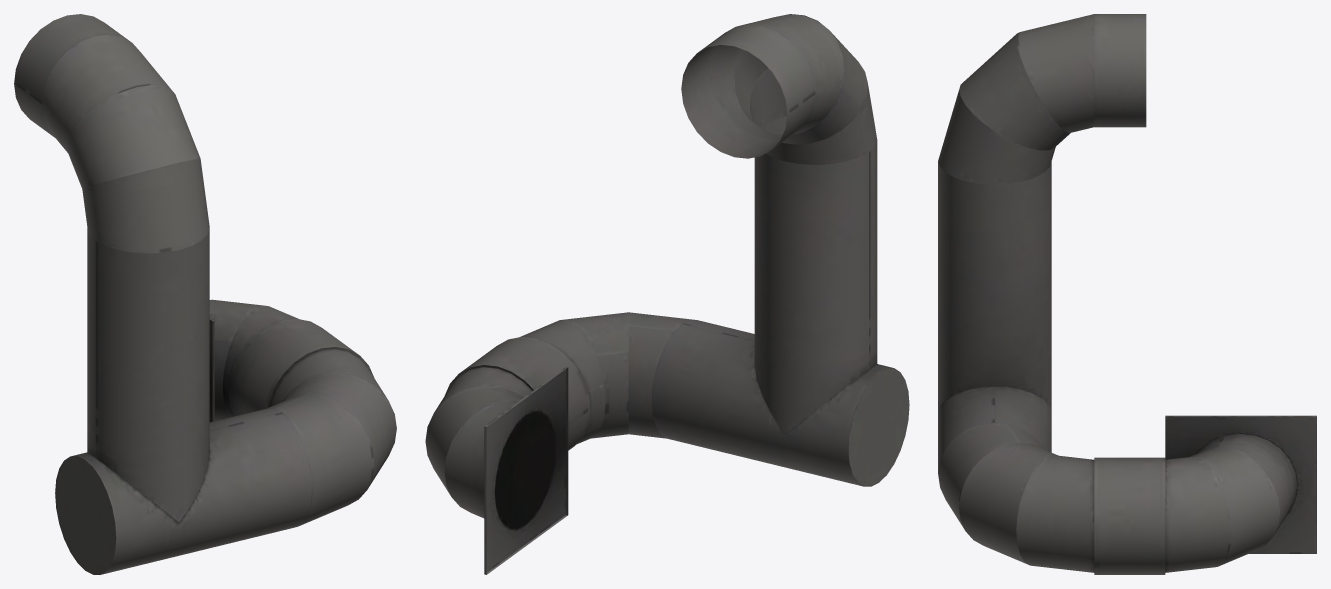
3 views of the same model, side by side, from view 1: azimuth 30°, elevation 25°; view 2: azimuth 150°, elevation 25°; view 3: azimuth 270°, elevation 25° (orthographic). The views are drawn at different scales.
Parts seen in each view (by area): view 1: body0_model0_lod0_mesh0; view 2: body0_model0_lod0_mesh0; view 3: body0_model0_lod0_mesh0.
Boxes of the visible parts, <box> form: body0_model0_lod0_mesh0: <box>14,14,396,574</box>; body0_model0_lod0_mesh0: <box>425,14,909,574</box>; body0_model0_lod0_mesh0: <box>938,14,1316,574</box>.
Bounding box in the file's own units: 156 × 216 × 160.
1 material, 1 textured.
